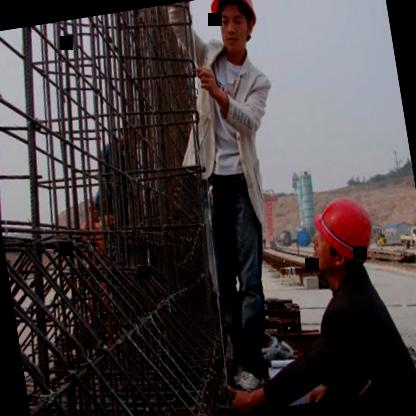helmet: (302, 186, 388, 282), (205, 0, 268, 64)
